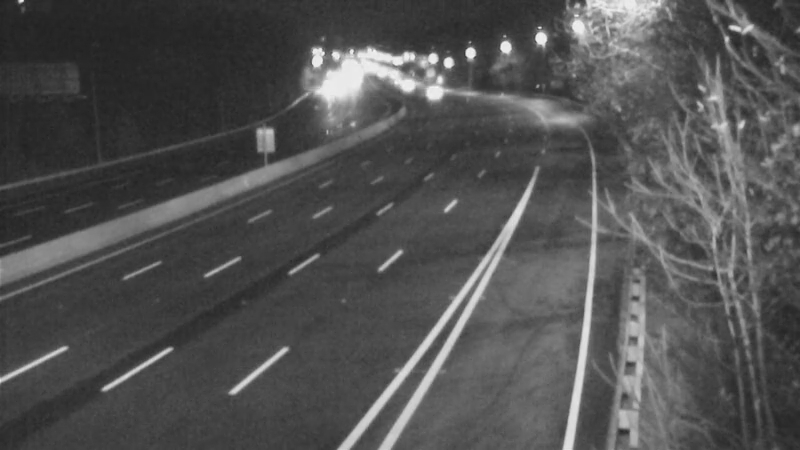vehicle: (380, 59, 430, 109), (407, 68, 457, 118)
